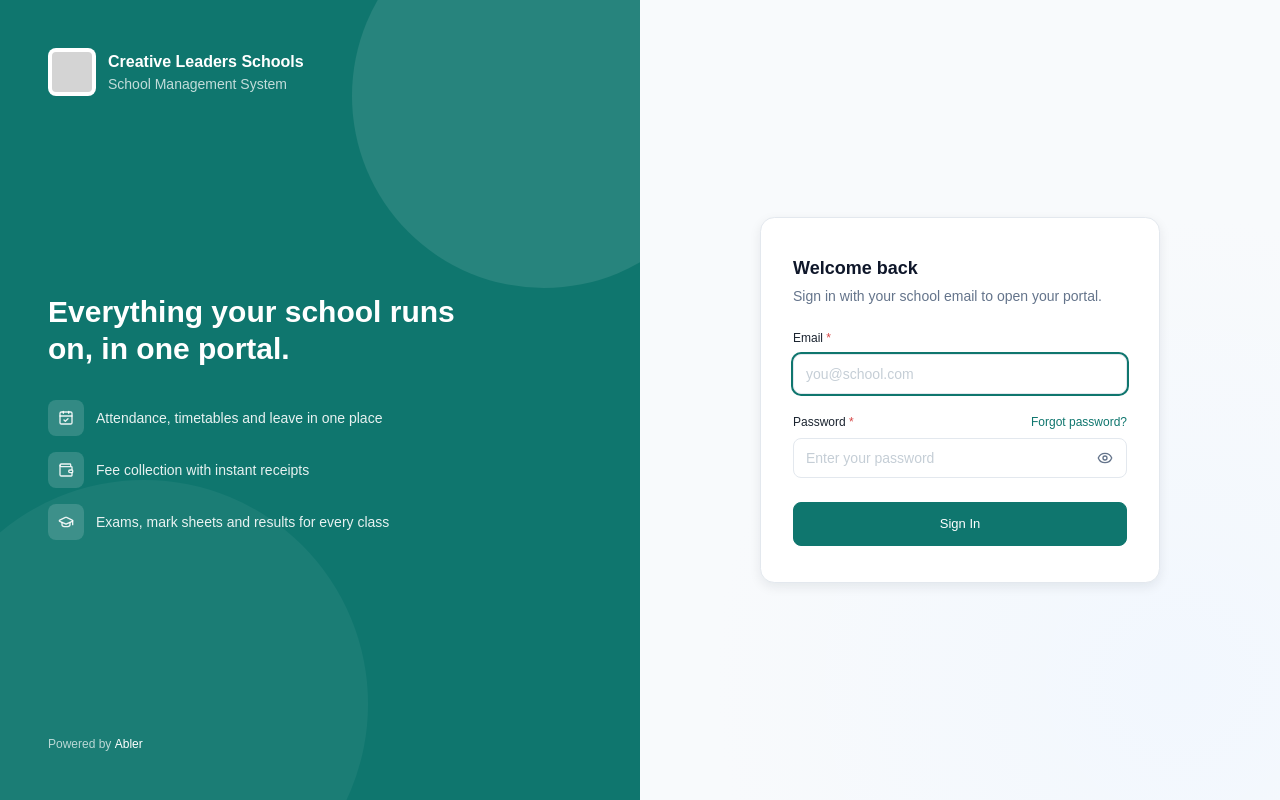
it: LoginScreen › disables the form and shows 'Signing in…' while submitting, once only
The image size is (1280, 800).
Type "teacher@school.com" into the field labelled "Email *" at (960, 374), box [793, 354, 1127, 394]
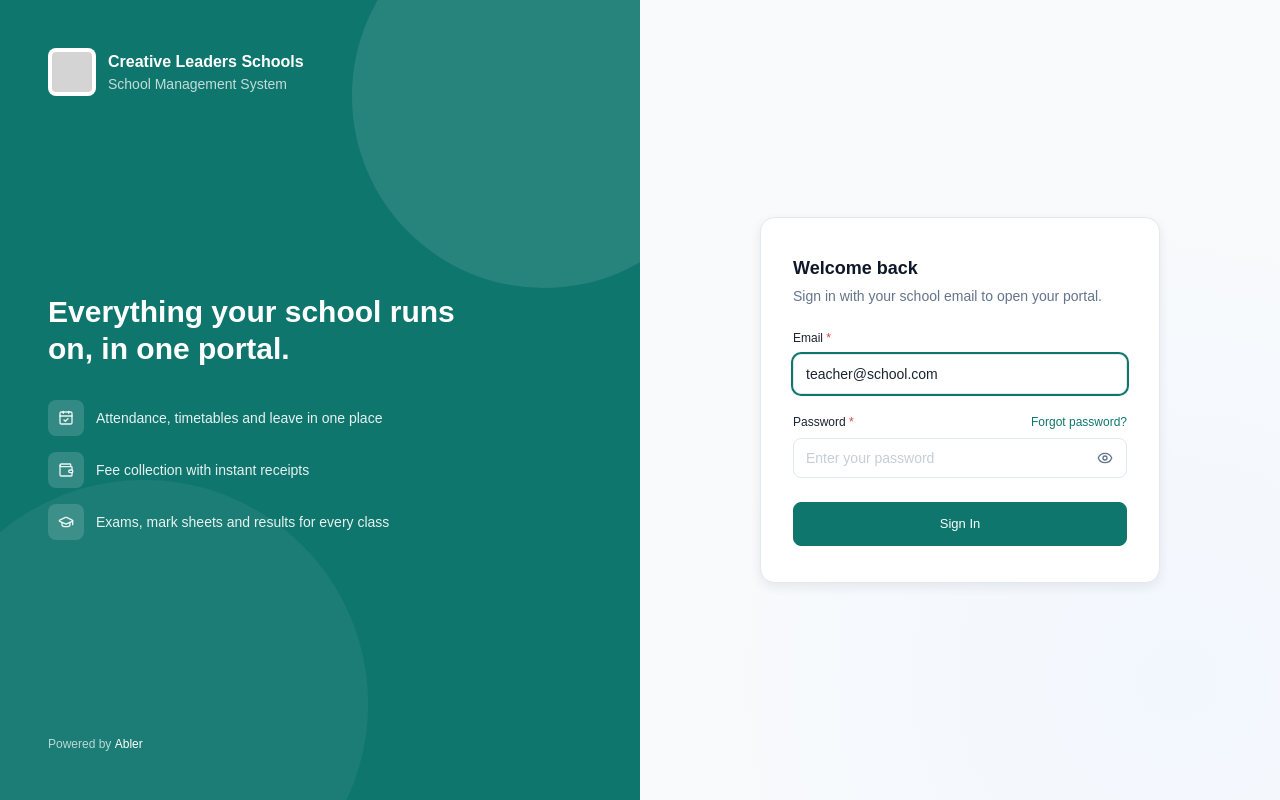
Type "correct-horse" into the password field labelled "Password *" at (960, 458), box [793, 438, 1127, 478]
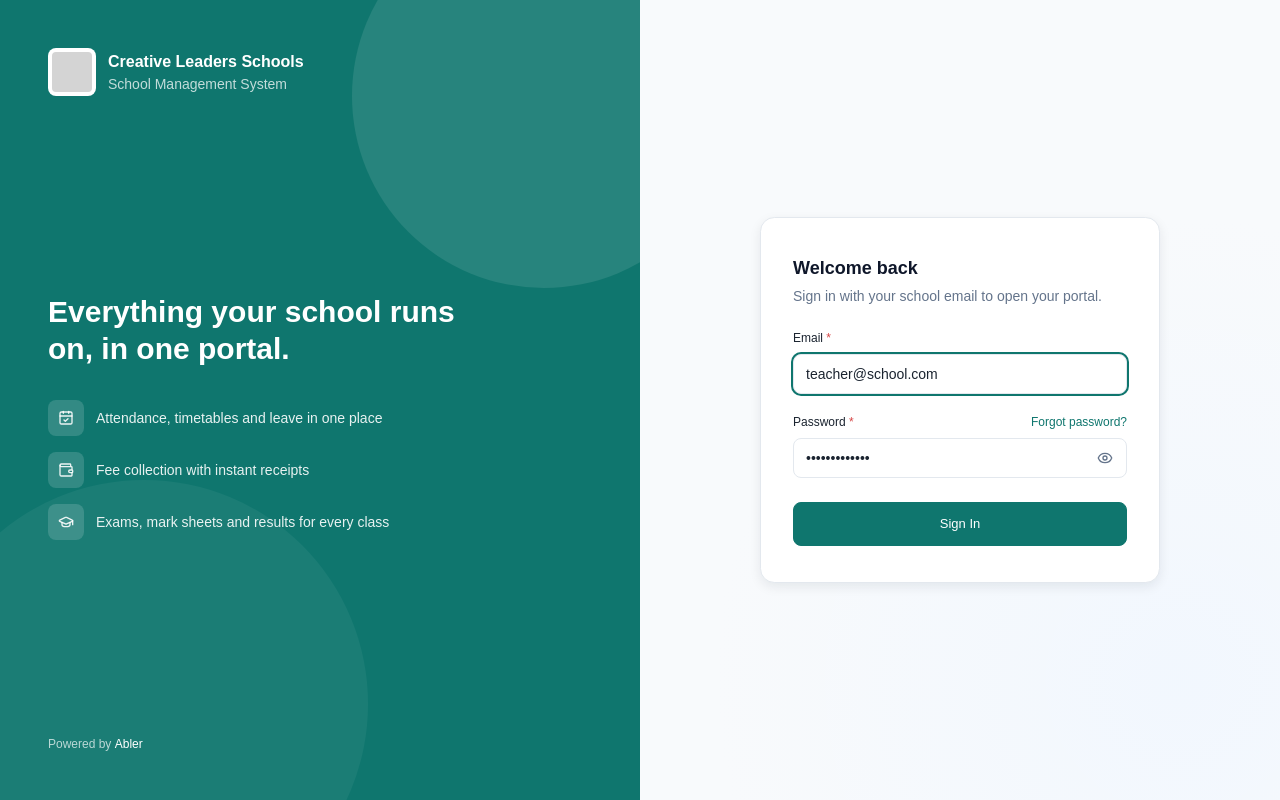
Click the button "Sign In" at (960, 524), box [793, 502, 1127, 546]
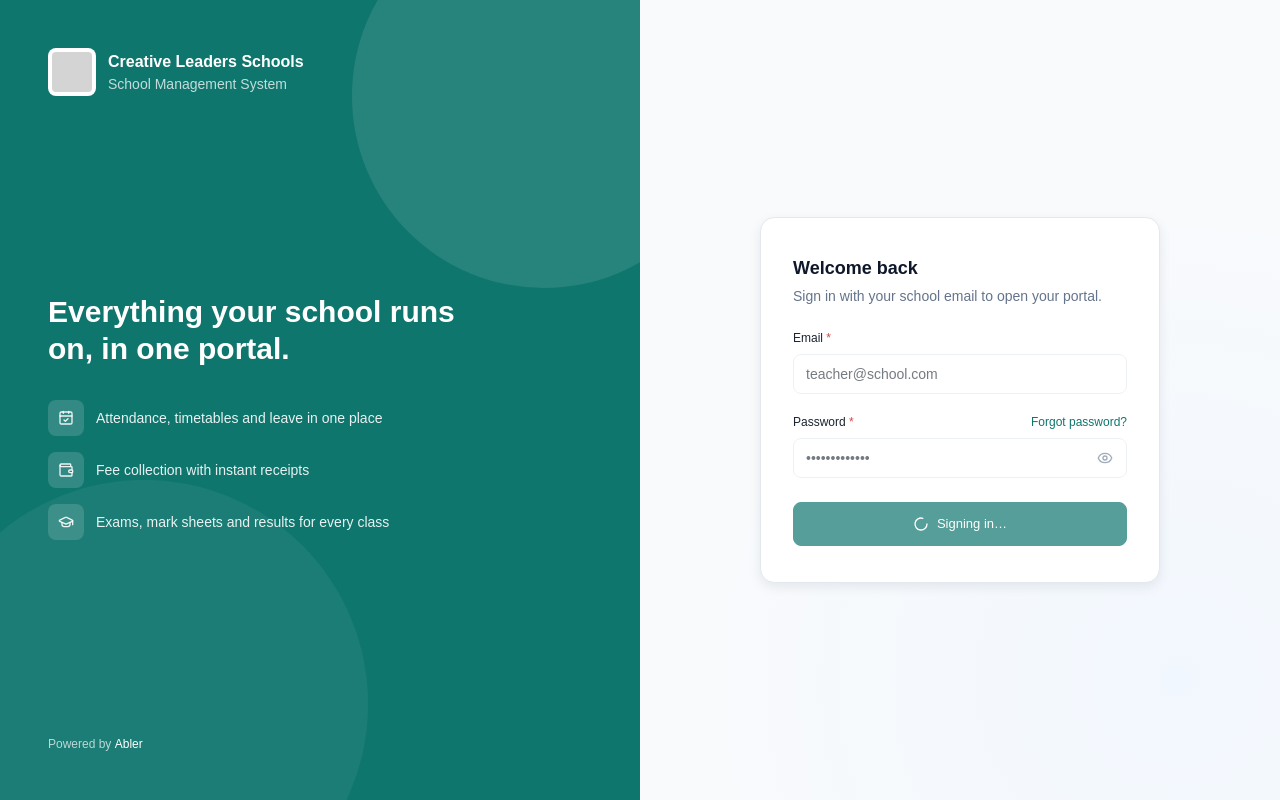
Result: the button "Signing in…" is disabled
Result: the field labelled "Email *" is disabled at [793, 354, 1127, 394]
Result: the password field labelled "Password *" is disabled at [793, 438, 1127, 478]
Submit the form from the button "Signing in…", box [793, 502, 1127, 546]
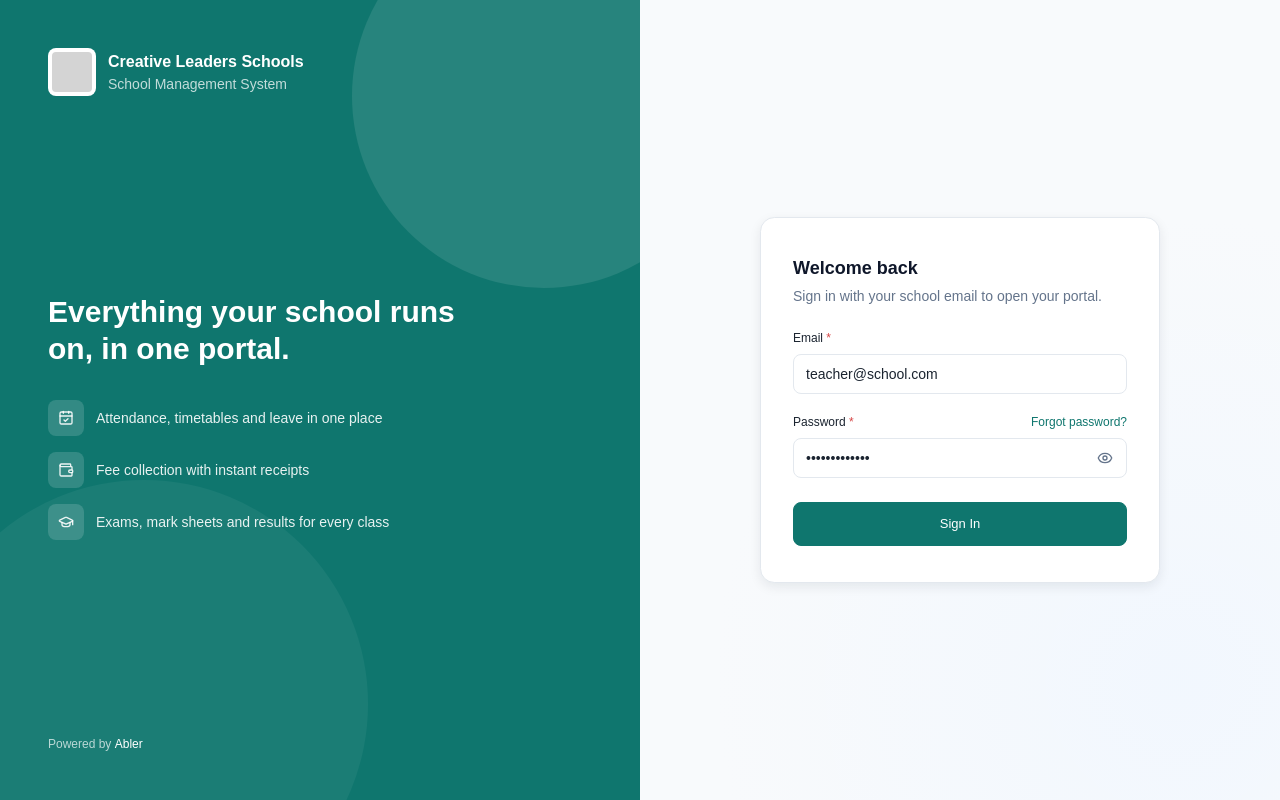
Result: the button "Sign In" is enabled at [793, 502, 1127, 546]
